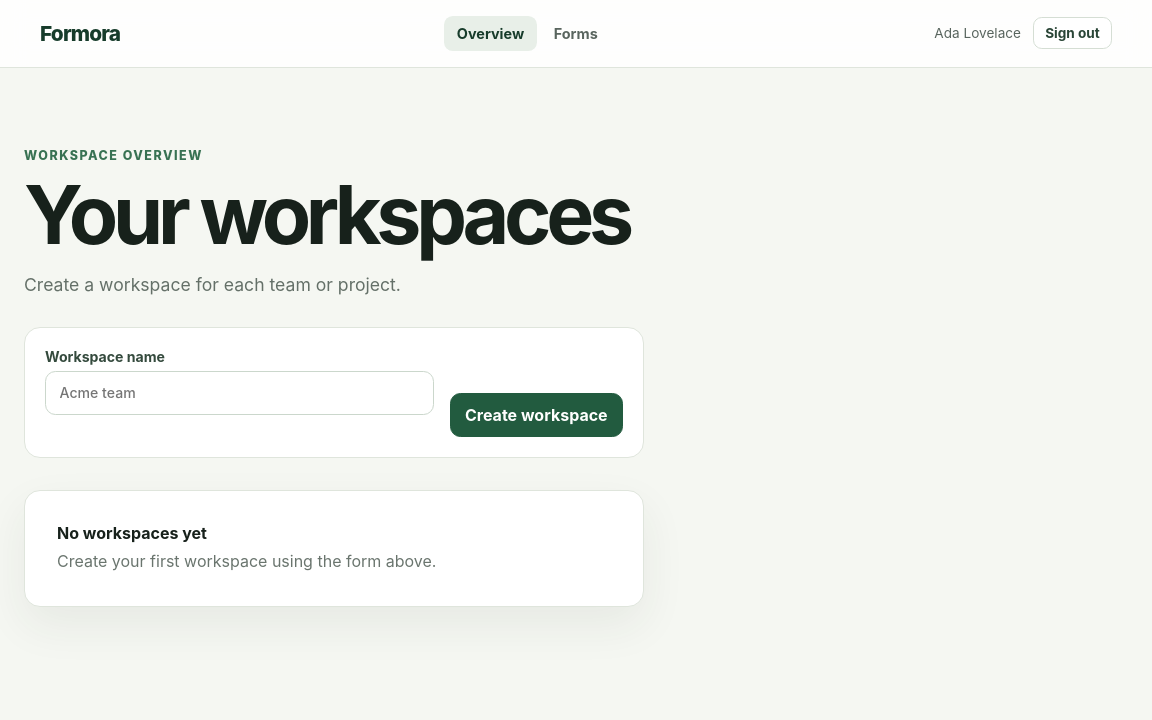
Scenario: application routes › creates a workspace and opens its detail page
The image size is (1152, 720).
Type "Acme Team" into the field labelled "Workspace name" at [239, 393], box [45, 371, 434, 415]
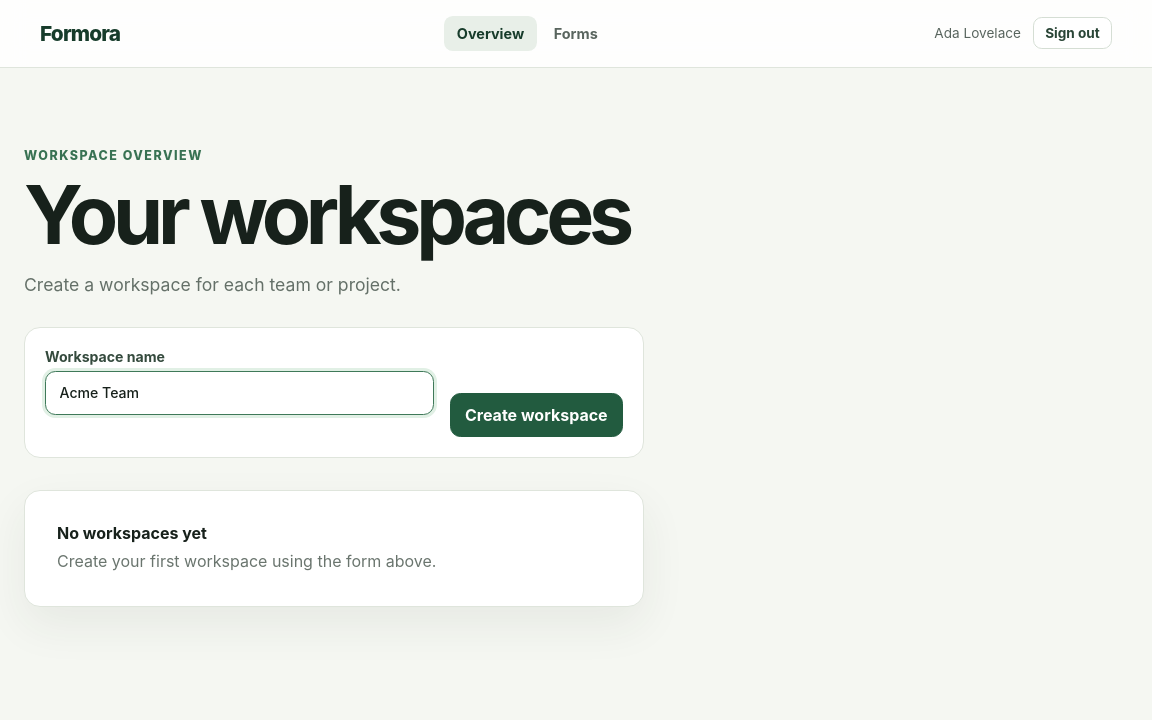
Click the button "Create workspace" at [536, 415], box [450, 392, 623, 437]
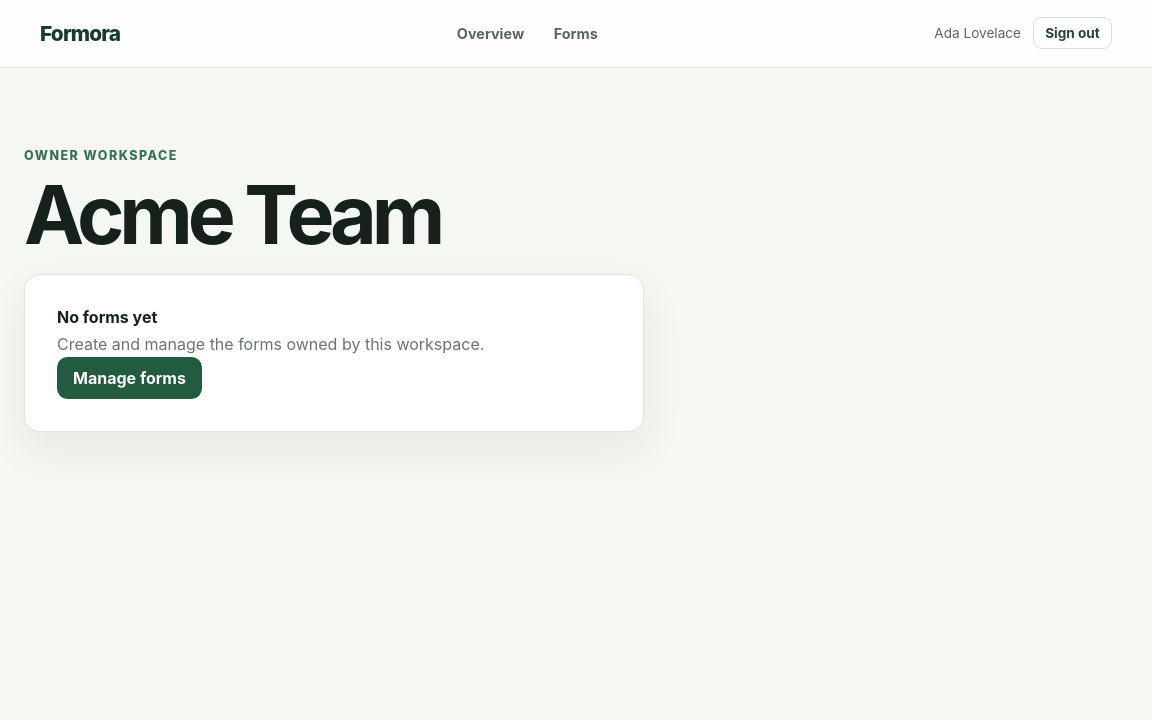
Now the heading "Acme Team" is shown, box [24, 166, 440, 263]
